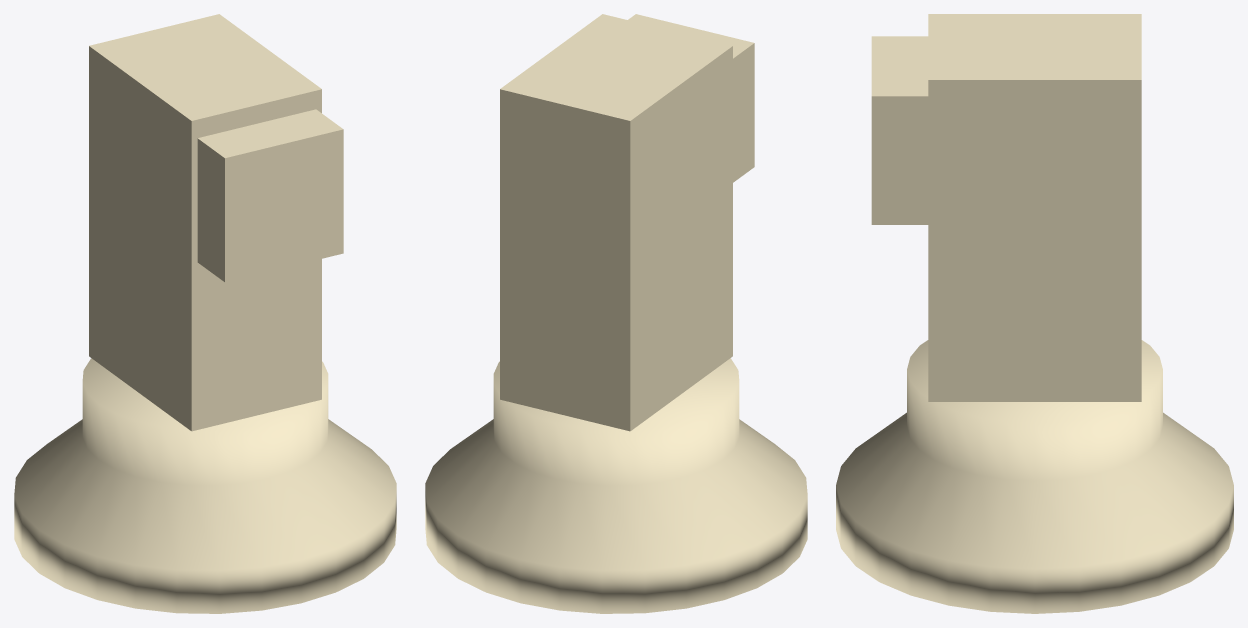
The model's file is w-knight.glb.
3 renders of one model, left to right at view 1: azimuth 30°, elevation 25°; view 2: azimuth 150°, elevation 25°; view 3: azimuth 270°, elevation 25°, orthographic. The views are drawn at different scales.
Visible parts, largest first — view 1: w-knight; view 2: w-knight; view 3: w-knight.
Part boxes in pixels (x1=…): w-knight: x1=14, y1=14, x2=396, y2=613; w-knight: x1=425, y1=14, x2=807, y2=613; w-knight: x1=836, y1=14, x2=1233, y2=613.
Size of the model in its own units: 0.56 by 0.75 by 0.56.
